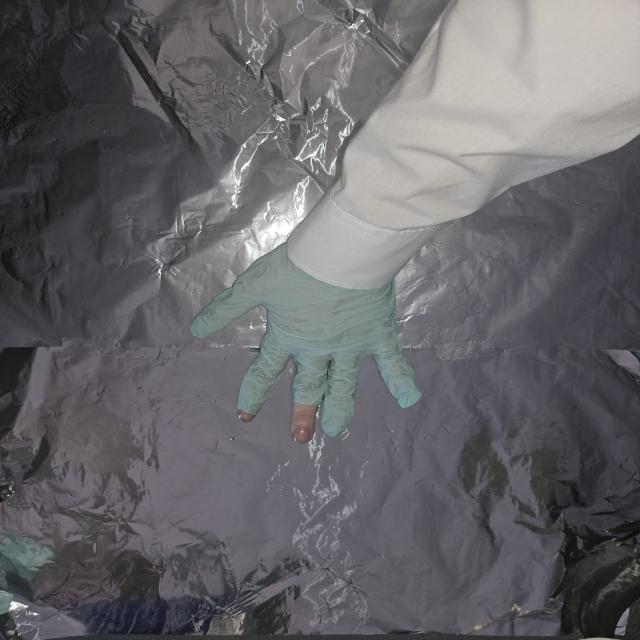gloves_damaged: (187, 243, 426, 442)
